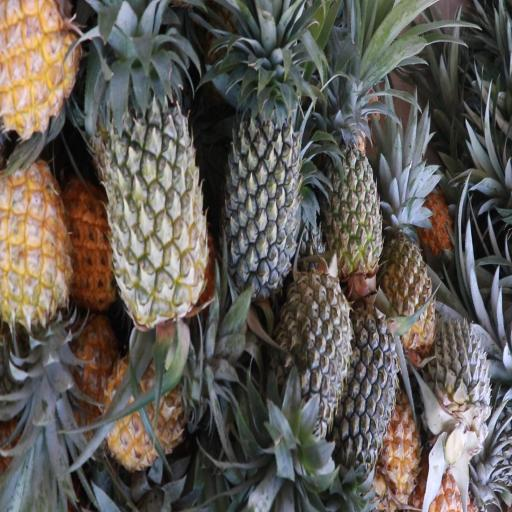------------------------------: (98, 62, 206, 325), (321, 120, 382, 270)
Pineapple - v8 v1: (0, 160, 73, 364), (101, 343, 218, 469), (0, 0, 82, 146), (384, 174, 440, 346)
